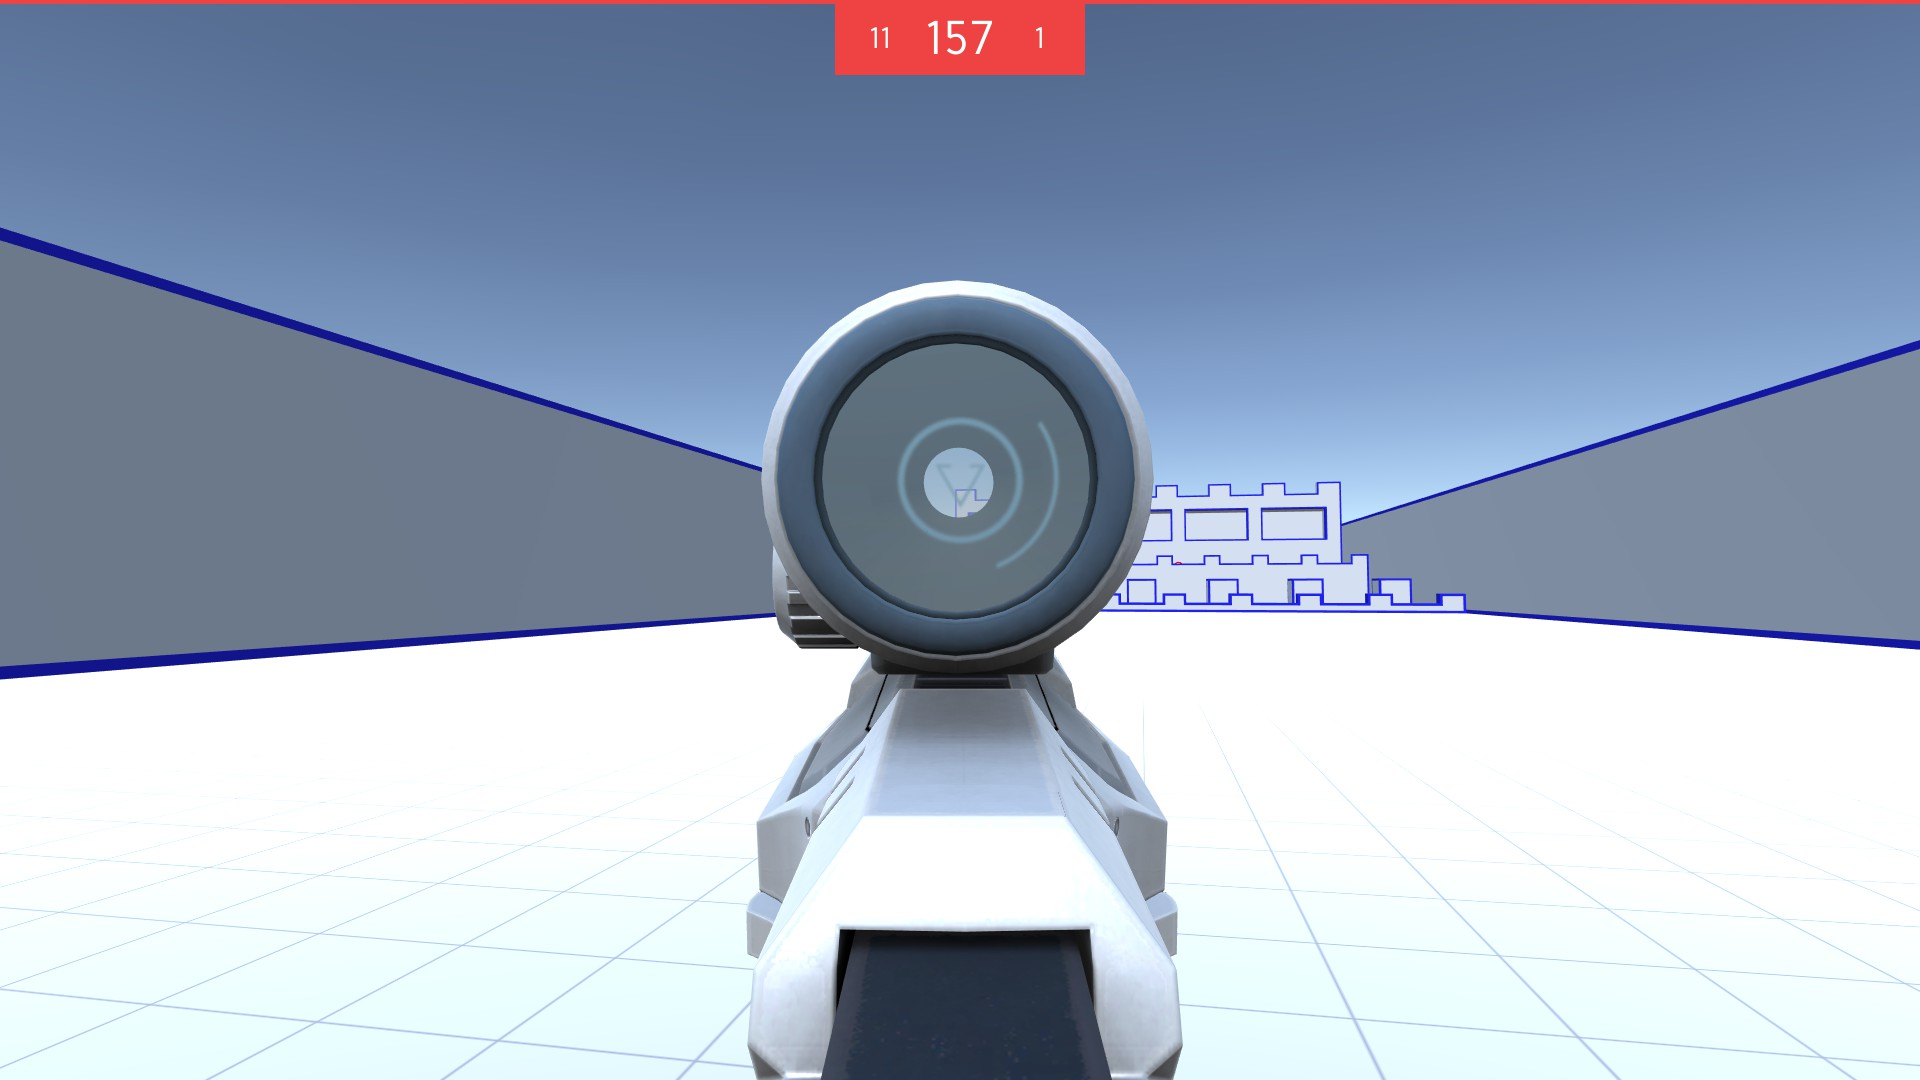target: (1174, 560, 1184, 567)
